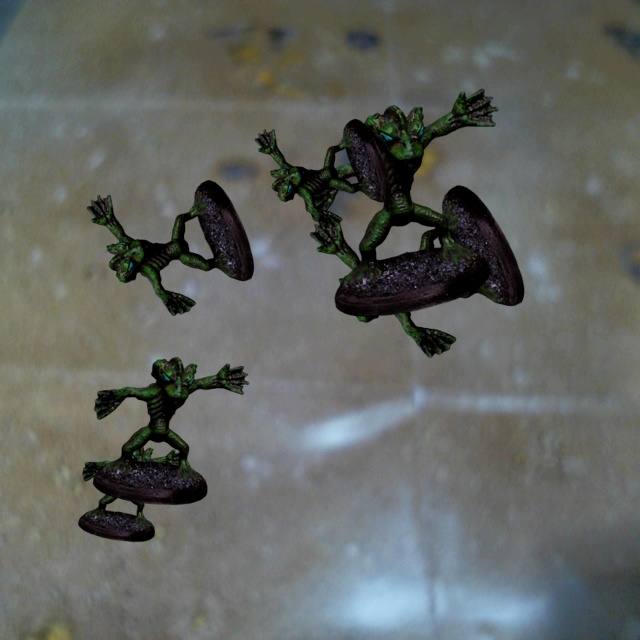pieza_juego: (303, 89, 497, 316), (310, 185, 524, 357), (93, 357, 248, 504), (87, 180, 253, 315), (255, 119, 390, 229), (78, 443, 187, 541)
